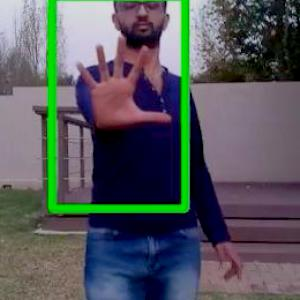follow_hand: (72, 30, 173, 136)
